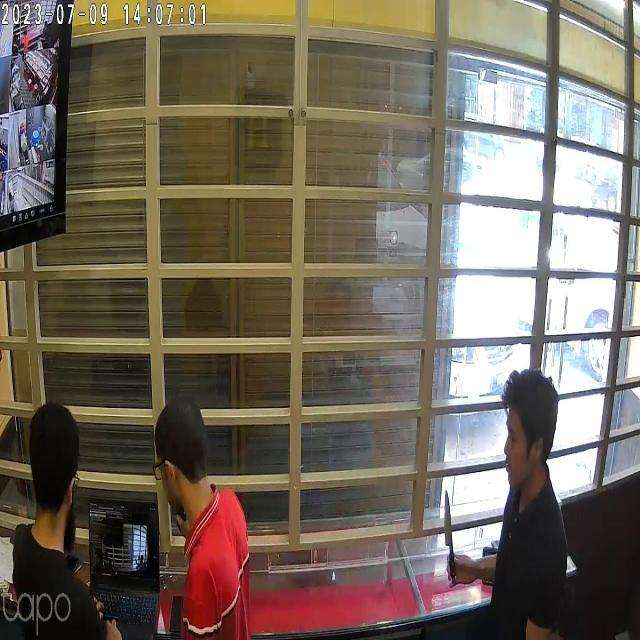Knife: (435, 481, 467, 587)
